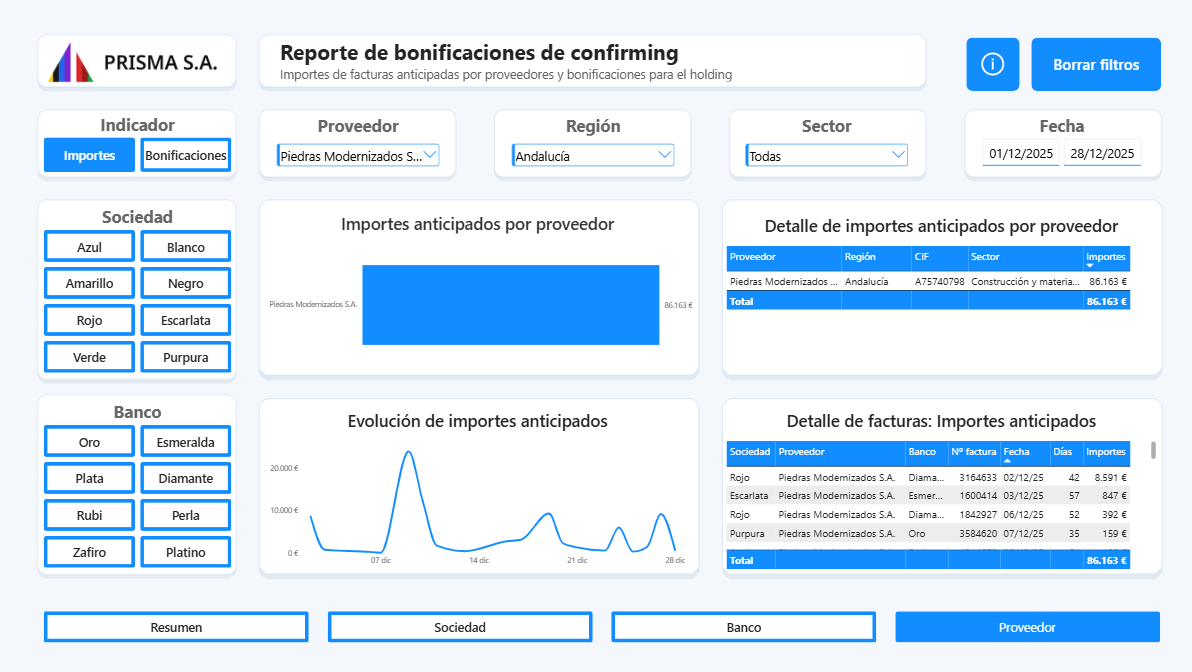

What the dashboard file says about the page in this screenshot:
{"tool":"powerbi","page":{"name":"Proveedor","canvas":[1920,1080],"ordinal":3},"visuals":[{"type":"barChart","fields":{"Category":["proveedores.Nombre_Proveedor_Grafico"],"Y":["Registro_Bonificaciones.Sel_Importes"]},"box":[412,324,704,270],"z":0},{"type":"tableEx","fields":{"Values":["proveedores.Nombre_Proveedor","CCAA_Proveedor.Comunidad Autónoma","proveedores.CIF_Proveedor","proveedores.Sector","Registro_Bonificaciones.Sel_Importes"]},"box":[1154,327,704,270],"z":1000},{"type":"lineChart","fields":{"Category":["registro_bonificaciones.F. Anticipo"],"Y":["Registro_Bonificaciones.Sel_Importes"]},"box":[412,640,704,270],"z":2000},{"type":"tableEx","fields":{"Values":["Sociedad.Nombre_Corto_Sociedad","proveedores.Nombre_Proveedor","Banco.Nombre_Corto_Banco","Count(registro_bonificaciones.Nº Factura)","registro_bonificaciones.F. Anticipo","Sum(registro_bonificaciones.Días)","Registro_Bonificaciones.Sel_Importes"]},"box":[1154,640,704,270],"z":3000},{"type":"image","box":[60.5,60,320,80],"z":4000},{"type":"advancedSlicerVisual","title":"Sociedad","fields":{"Values":["Sociedad.Nombre_Corto_Sociedad"]},"box":[70.5,328,300,270],"z":5000},{"type":"pageNavigator","box":[70,978,1786,50],"z":6000},{"type":"advancedSlicerVisual","title":"Banco","fields":{"Values":["Banco.Nombre_Corto_Banco"]},"box":[70.5,640,300,270],"z":7000},{"type":"shape","title":"Reporte de bonificaciones de confirming","box":[448,60,1030,80],"z":8000},{"type":"advancedSlicerVisual","title":"Indicador","fields":{"Values":["Selector.Selector"]},"box":[70.5,180,300,96],"z":9000},{"type":"slicer","title":"Proveedor","fields":{"Values":["proveedores.Nombre_Proveedor"]},"box":[438,182,270,100],"z":10000},{"type":"slicer","title":"Región","fields":{"Values":["CCAA_Proveedor.Comunidad Autónoma"]},"box":[814,182,270,100],"z":11000},{"type":"slicer","title":"Fecha","fields":{"Values":["registro_bonificaciones.F. Anticipo"]},"box":[1564,182,270,100],"z":12000},{"type":"slicer","title":"Sector","fields":{"Values":["Proveedor.Sector"]},"box":[1188,182,270,100],"z":13000},{"type":"shape","box":[1572.1,250.7,123.6,29.3],"z":14000},{"type":"shape","box":[1702.1,250.7,123.6,29.3],"z":15000},{"type":"actionButton","box":[1650,60,208,86],"z":16000},{"type":"actionButton","box":[1545.6,60,85.6,85.6],"z":17000}]}

Visuals, with their boxes in screenshot pixels (x1, y1, x2, y2), scaled from the page's 1920x1080 canvas onto the 1192x672 screenshot:
barChart - proveedores.Nombre_Proveedor_Grafico x Registro_Bonificaciones.Sel_Importes: x1=256 y1=202 x2=693 y2=370
tableEx - proveedores.Nombre_Proveedor x CCAA_Proveedor.Comunidad Autónoma: x1=716 y1=203 x2=1154 y2=371
lineChart - registro_bonificaciones.F. Anticipo x Registro_Bonificaciones.Sel_Importes: x1=256 y1=398 x2=693 y2=566
tableEx - Sociedad.Nombre_Corto_Sociedad x proveedores.Nombre_Proveedor: x1=716 y1=398 x2=1154 y2=566
image: x1=38 y1=37 x2=236 y2=87
"Sociedad" advancedSlicerVisual: x1=44 y1=204 x2=230 y2=372
pageNavigator: x1=43 y1=609 x2=1152 y2=640
"Banco" advancedSlicerVisual: x1=44 y1=398 x2=230 y2=566
"Reporte de bonificaciones de confirming" shape: x1=278 y1=37 x2=918 y2=87
"Indicador" advancedSlicerVisual: x1=44 y1=112 x2=230 y2=172
"Proveedor" slicer: x1=272 y1=113 x2=440 y2=175
"Región" slicer: x1=505 y1=113 x2=673 y2=175
"Fecha" slicer: x1=971 y1=113 x2=1139 y2=175
"Sector" slicer: x1=738 y1=113 x2=905 y2=175
shape: x1=976 y1=156 x2=1053 y2=174
shape: x1=1057 y1=156 x2=1133 y2=174
actionButton: x1=1024 y1=37 x2=1154 y2=91
actionButton: x1=960 y1=37 x2=1013 y2=91
